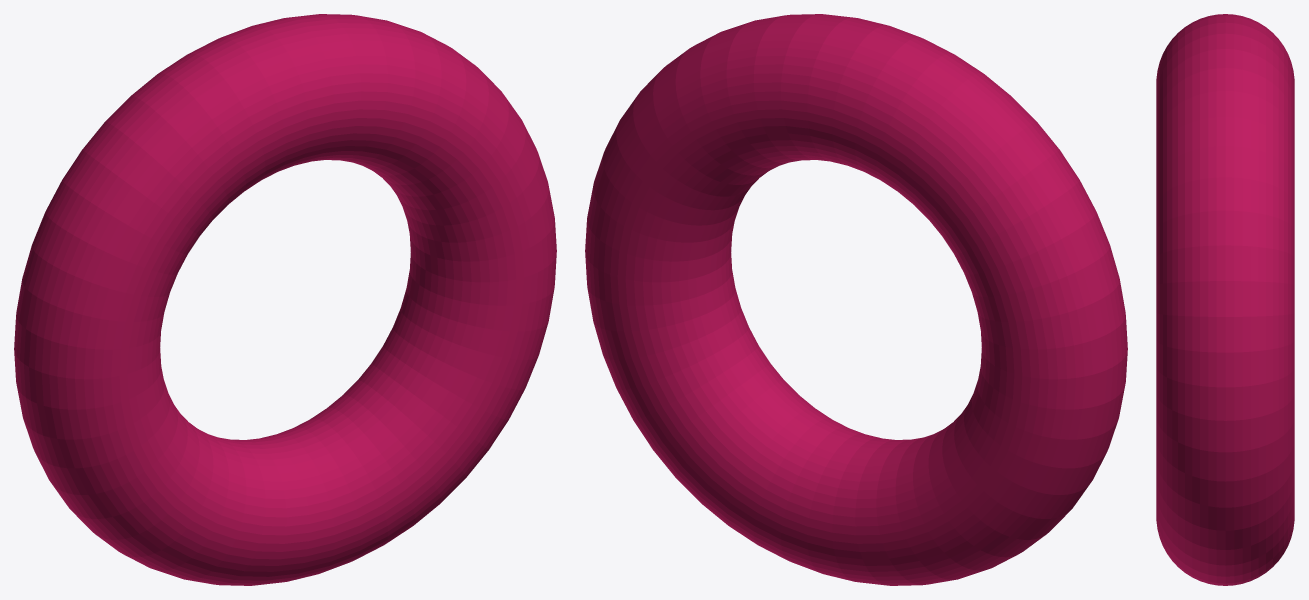
3 renders of one model, left to right at view 1: azimuth 30°, elevation 25°; view 2: azimuth 150°, elevation 25°; view 3: azimuth 270°, elevation 25°, orthographic. The views are drawn at different scales.
Visible parts, largest first — view 1: world; view 2: world; view 3: world.
Part boxes in pixels (x1=…): world: x1=14, y1=14, x2=556, y2=585; world: x1=585, y1=14, x2=1127, y2=585; world: x1=1156, y1=14, x2=1294, y2=585.
Size of the model in its own units: 32.53 by 32.47 by 7.85.
